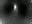person: (14, 4, 20, 18)
